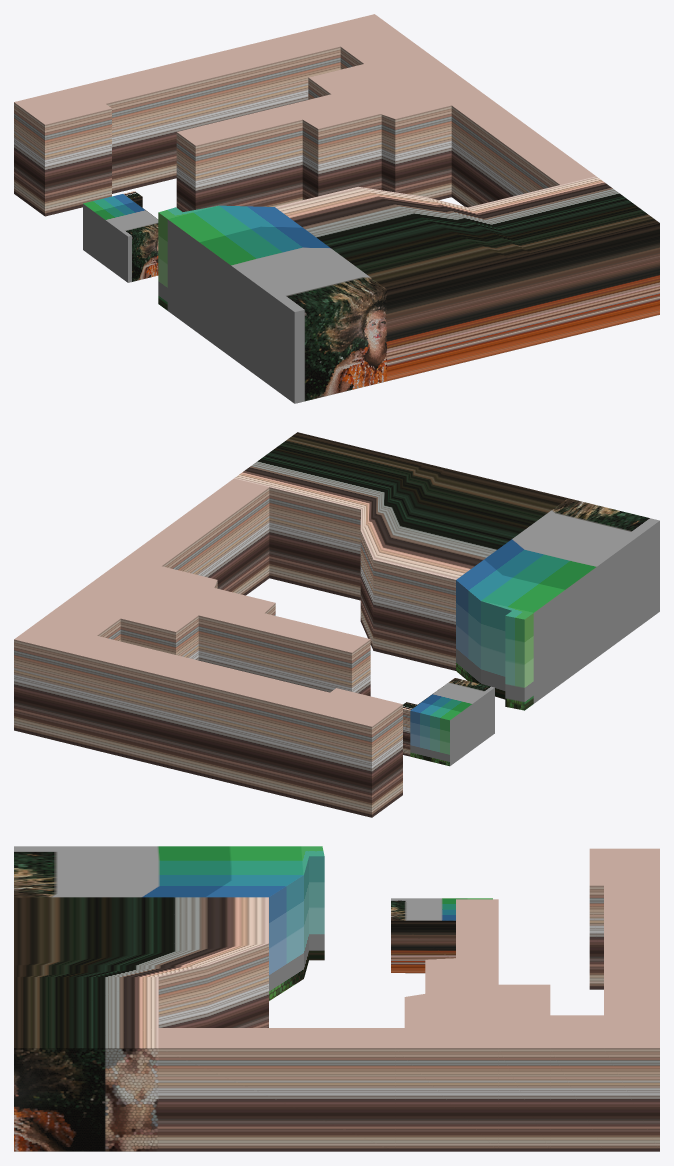
The model's file is testMap03Collider.fbx.
The picture shows the model from 3 angles, top to bottom: view 1: azimuth 30°, elevation 25°; view 2: azimuth 150°, elevation 25°; view 3: azimuth 270°, elevation 25°; orthographic projection. The views are drawn at different scales.
Parts seen in each view (by area): view 1: colllll; view 2: colllll; view 3: colllll.
Boxes of the visible parts, left/top/right/bottom form: colllll: left=14, top=14, right=659, bottom=403; colllll: left=14, top=432, right=659, bottom=817; colllll: left=14, top=846, right=659, bottom=1151.
Size of the model in its own units: 9.89 by 2.39 by 13.37.
Materials: 1 (1 with a texture image).
